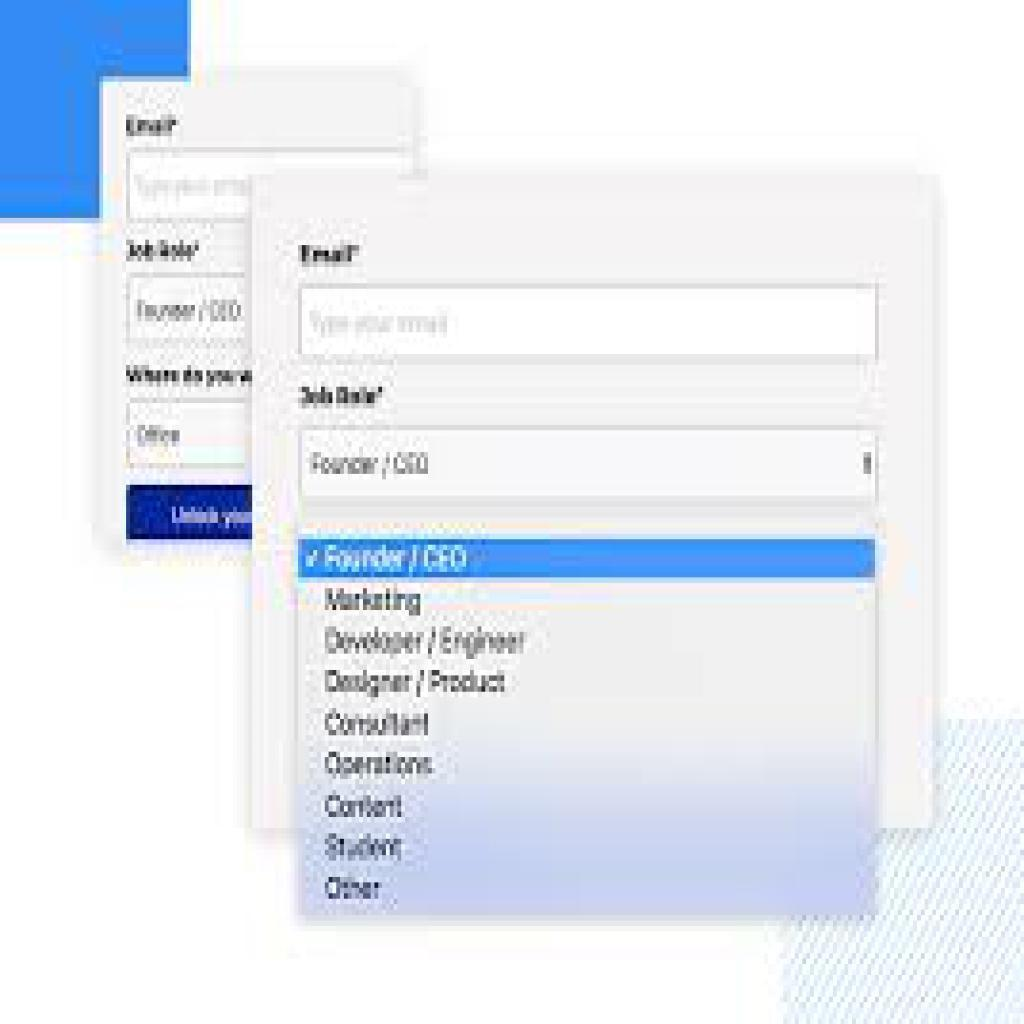button: (298, 540, 877, 581), (130, 485, 252, 542)
dropdown: (300, 425, 879, 503)
input: (302, 288, 877, 359), (128, 272, 252, 347), (125, 401, 254, 466)
